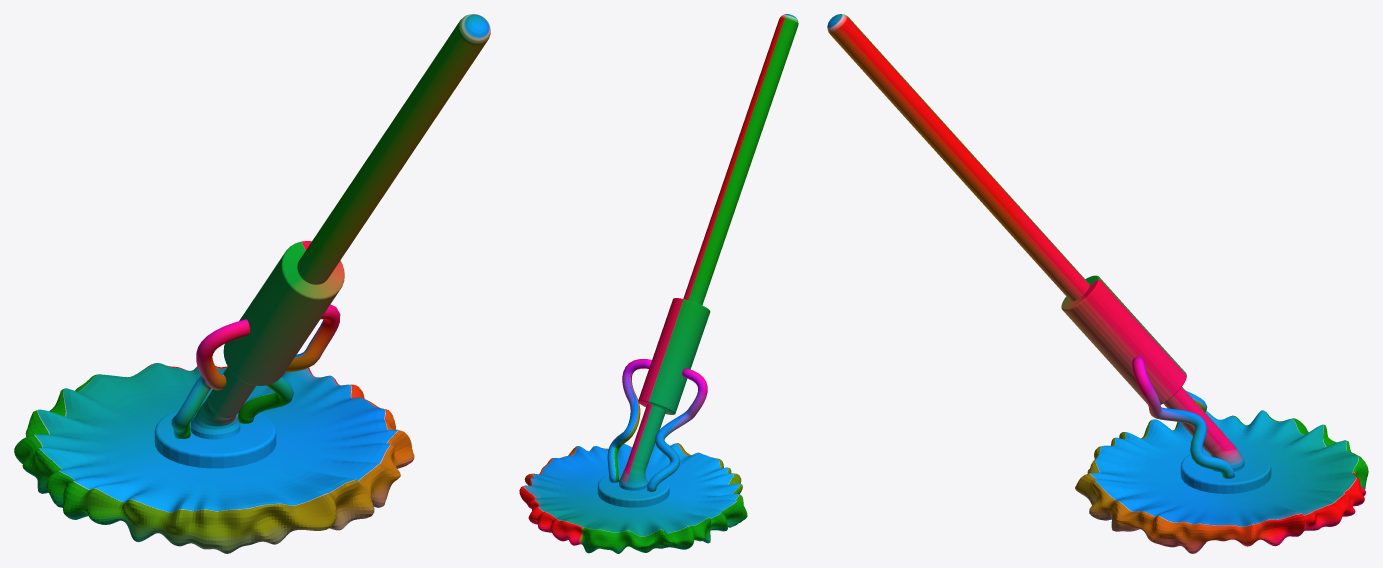
File: mopObrotowy.fbx
The picture shows the model from 3 angles, left to right: view 1: azimuth 30°, elevation 25°; view 2: azimuth 150°, elevation 25°; view 3: azimuth 270°, elevation 25°; orthographic projection. The views are drawn at different scales.
Parts seen in each view (by area): view 1: BézierCurve; view 2: BézierCurve; view 3: BézierCurve.
Boxes of the visible parts, x1,y1,x2,y2 form: BézierCurve: (14,14,490,553); BézierCurve: (519,14,798,553); BézierCurve: (827,14,1368,553).
Bounding box in the file's own units: 93.97 × 173 × 175.
Materials: 1 (1 with a texture image).
